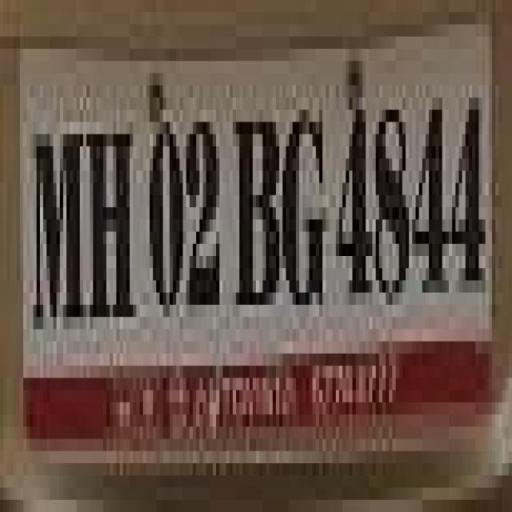number plate: (0, 12, 492, 427)
